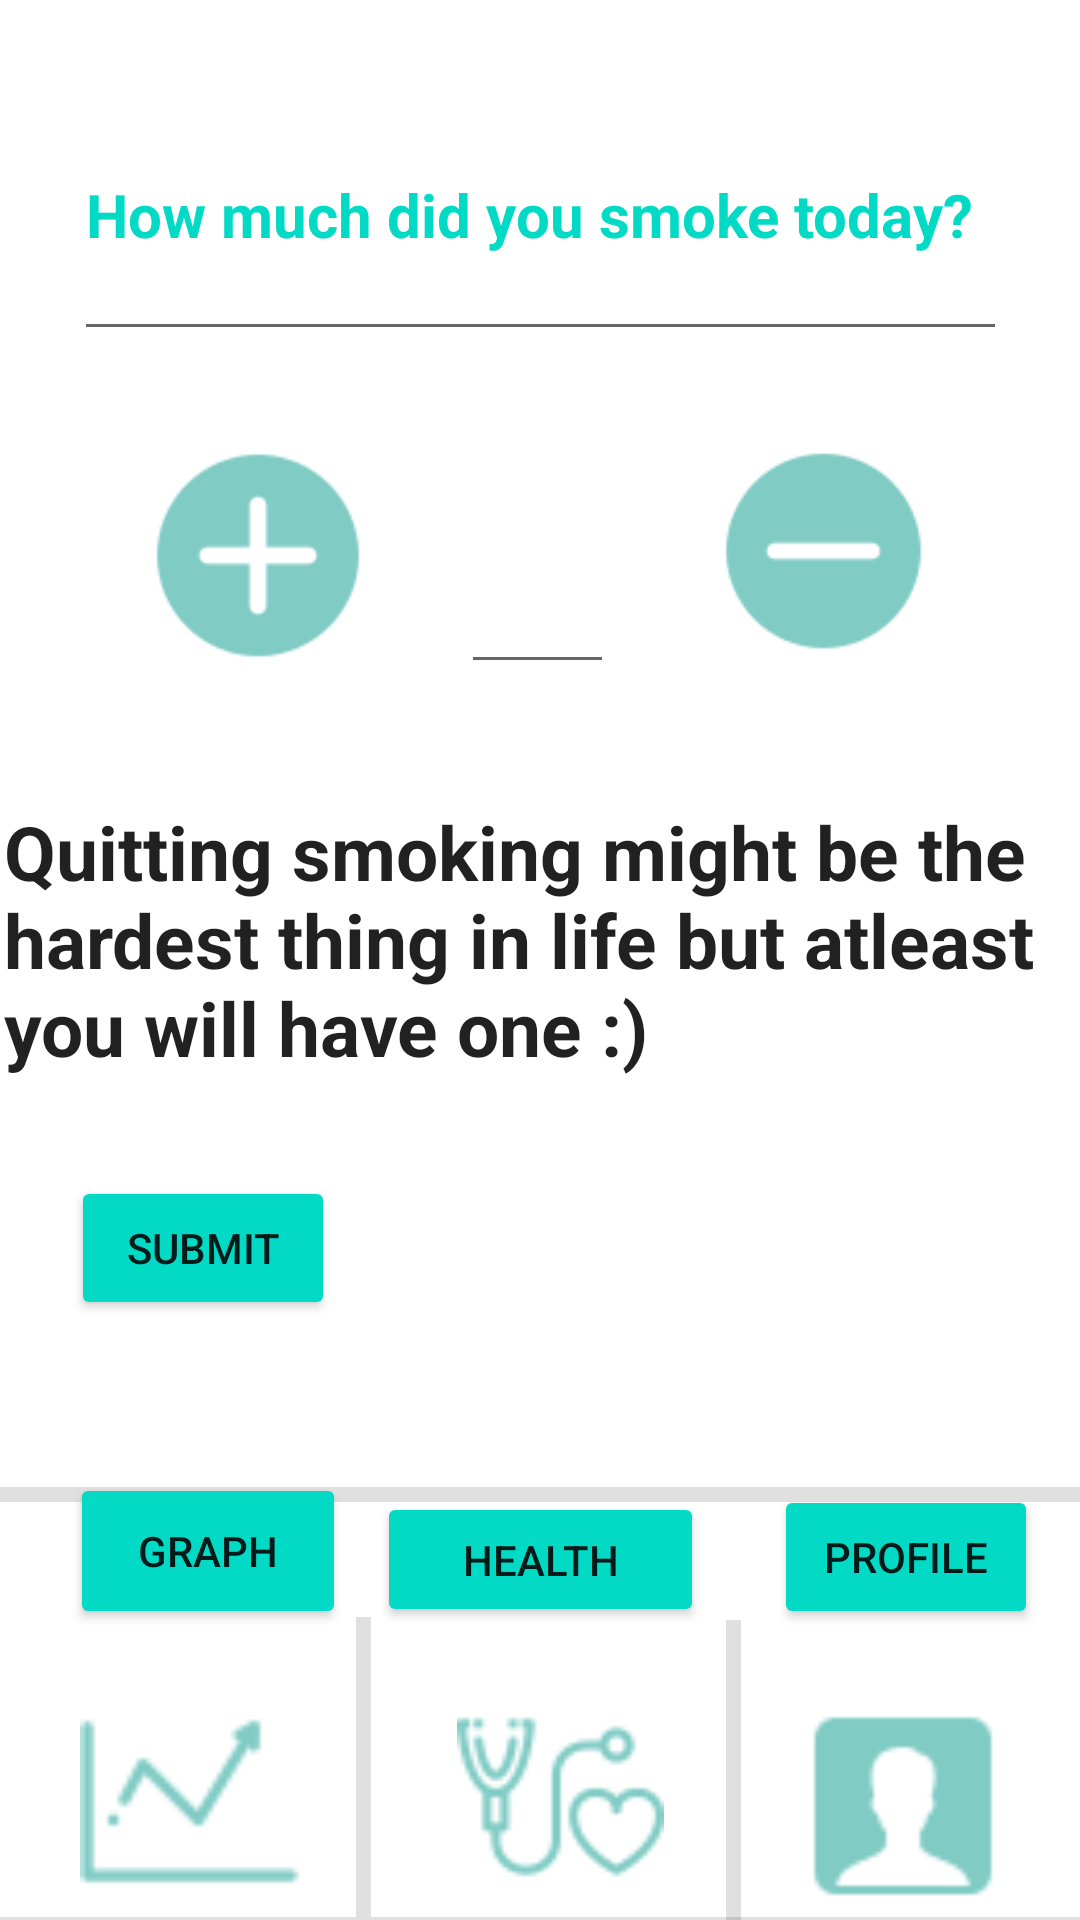

Locate icon controls on the screen. Image size 1080w x 1920h, boxes as (x1, y1, x2, y2).
minus: (726, 453, 921, 649)
plus: (156, 454, 360, 657)
